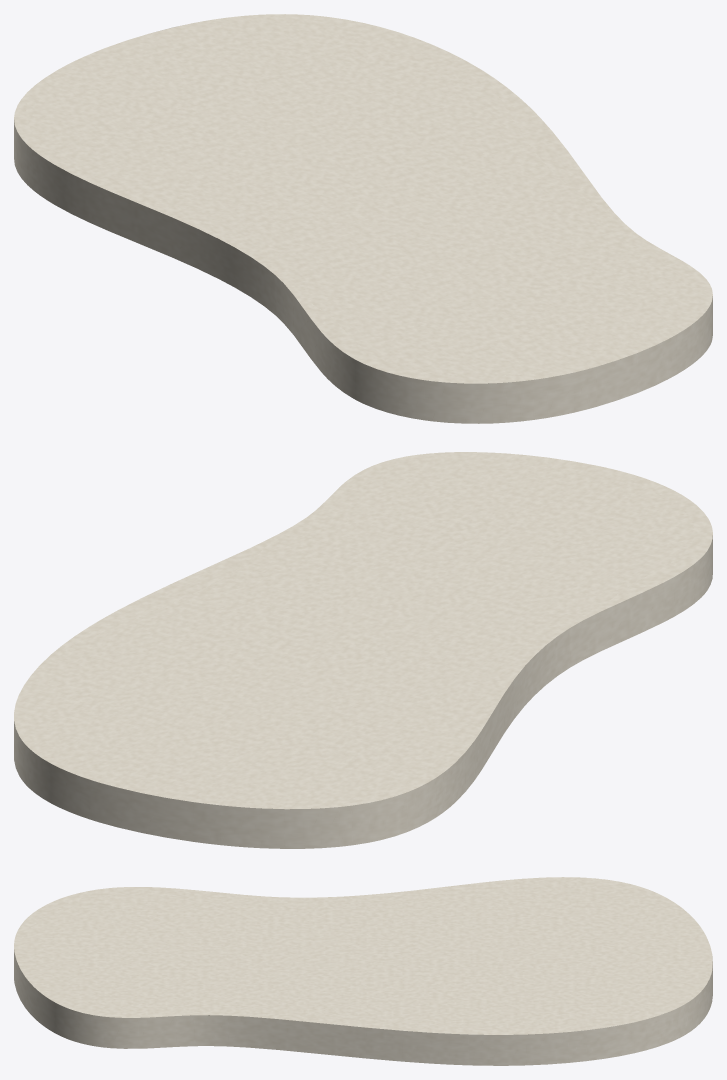
Rendered from museum_floor.glb.
3 renders of one model, top to bottom at view 1: azimuth 30°, elevation 25°; view 2: azimuth 150°, elevation 25°; view 3: azimuth 270°, elevation 25°, orthographic. The views are drawn at different scales.
Parts seen in each view (by area): view 1: SUELO_Superficie; view 2: SUELO_Superficie; view 3: SUELO_Superficie.
Part boxes in pixels (x1=…): SUELO_Superficie: x1=14, y1=14, x2=712, y2=423; SUELO_Superficie: x1=14, y1=452, x2=712, y2=848; SUELO_Superficie: x1=14, y1=877, x2=712, y2=1065.
Bounding box in the file's own units: 5.69 × 0.5199 × 10.66.
Materials: 1 (1 with a texture image).
